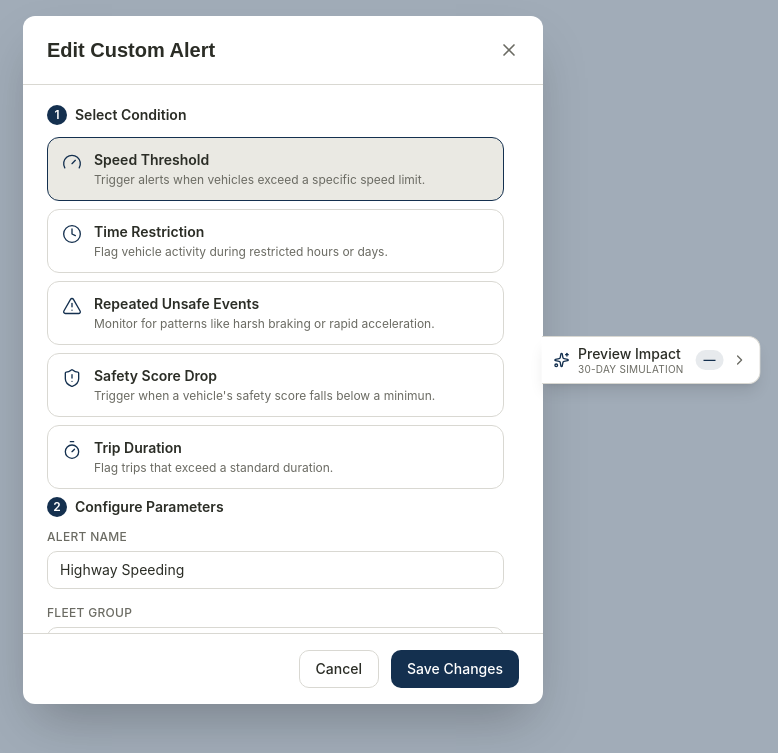
Test: EditAlertRuleModal › shows error + toast on API failure
The image size is (778, 753).
Click the button "Save Changes" at [455, 669], box [391,650,519,688]
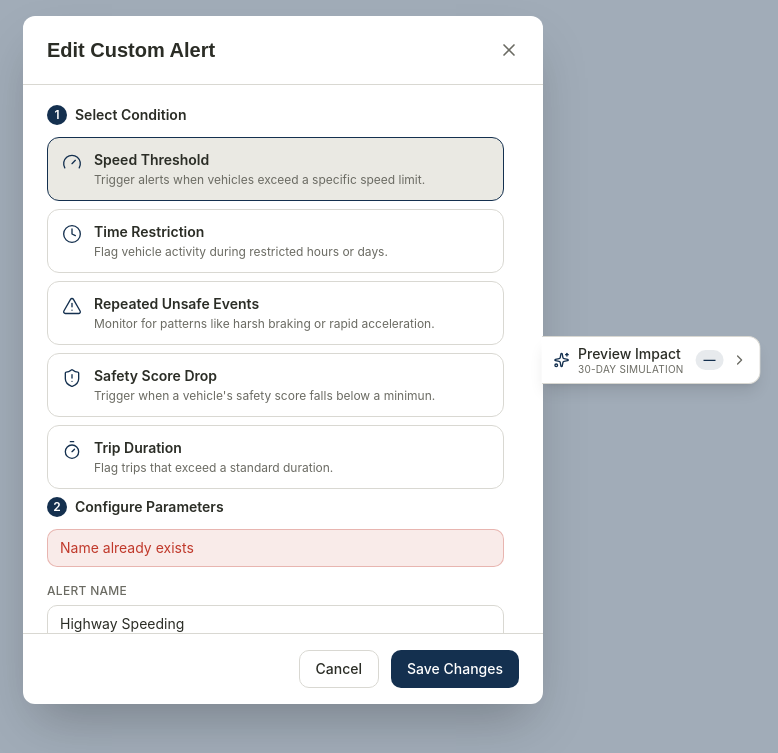
Now the text "Name already exists" is shown, box [47,529,504,567]
